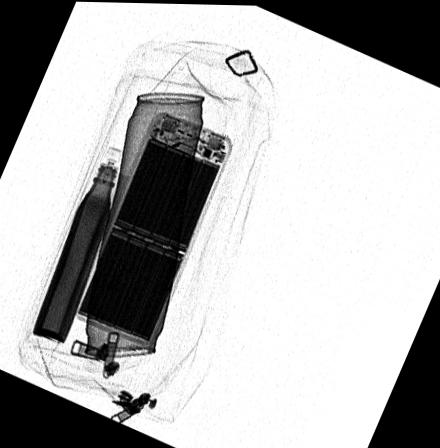Powerbank: (73, 108, 231, 348)
